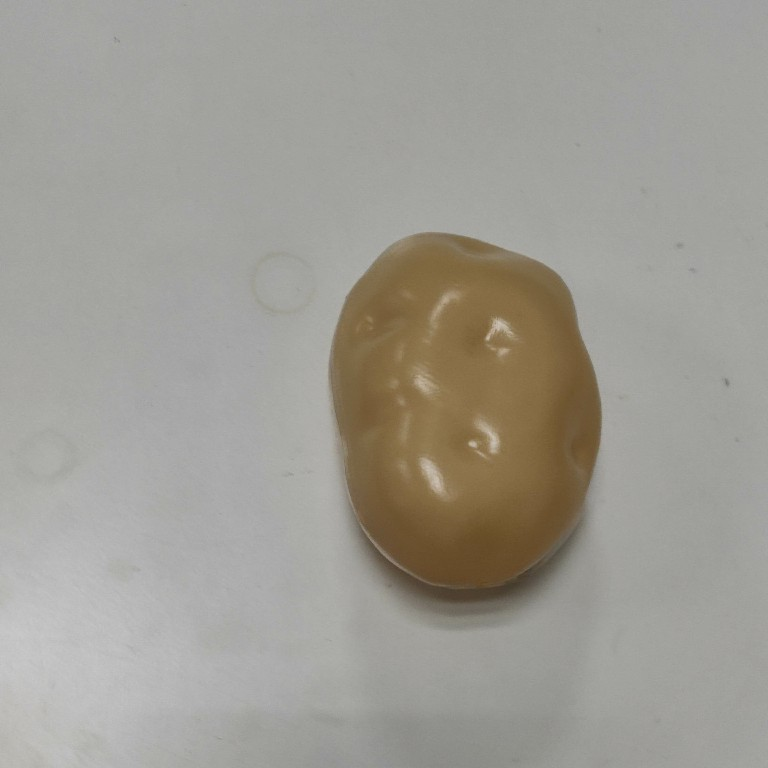fruit_potato: (322, 228, 605, 597)
